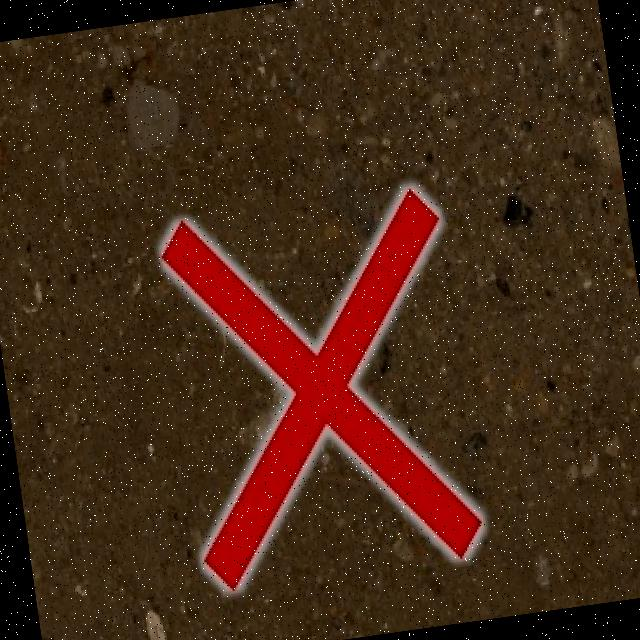x_marker: (156, 184, 485, 590)
